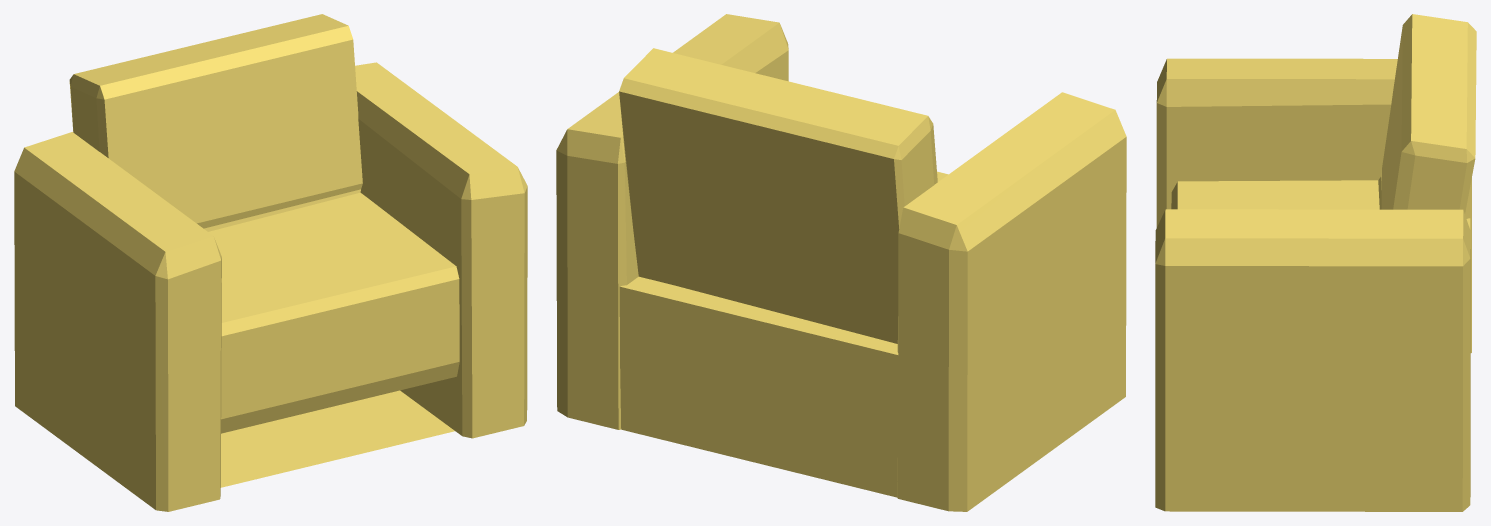
The model's file is Chair_Armchair_1_231109.glb.
3 renders of one model, left to right at view 1: azimuth 30°, elevation 25°; view 2: azimuth 150°, elevation 25°; view 3: azimuth 270°, elevation 25°, orthographic. The views are drawn at different scales.
Visible parts, largest first — view 1: Armchair_1; view 2: Armchair_1; view 3: Armchair_1.
Boxes of the visible parts, x1,y1,x2,y2 form: Armchair_1: (14,14,527,511); Armchair_1: (556,14,1126,511); Armchair_1: (1155,14,1476,511).
Size of the model in its own units: 1.75 by 1.45 by 1.25.
Materials: 1 (1 with a texture image).
